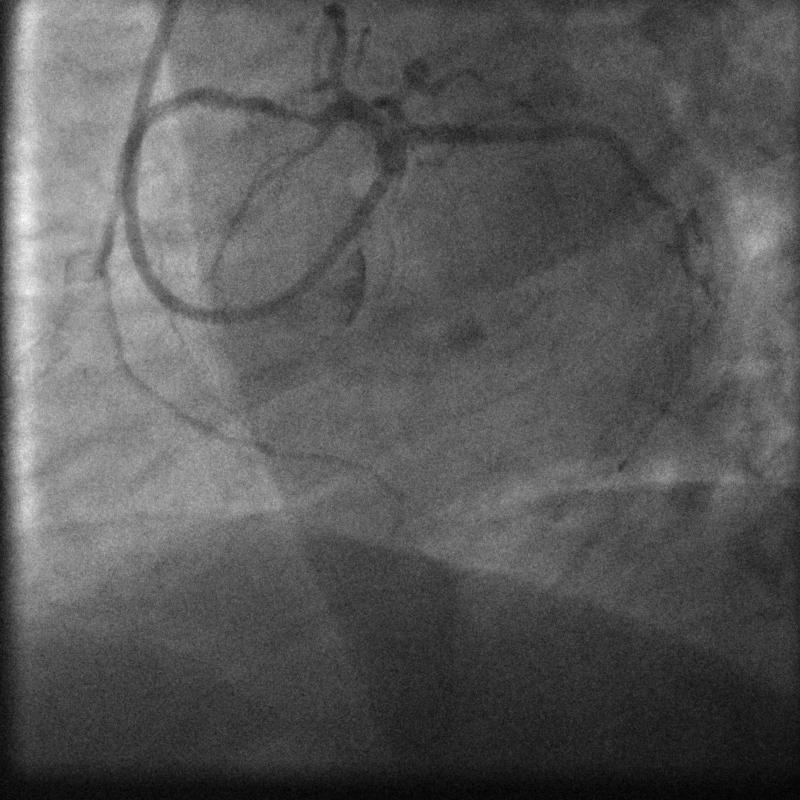Stenosis: (260, 94, 327, 138)
